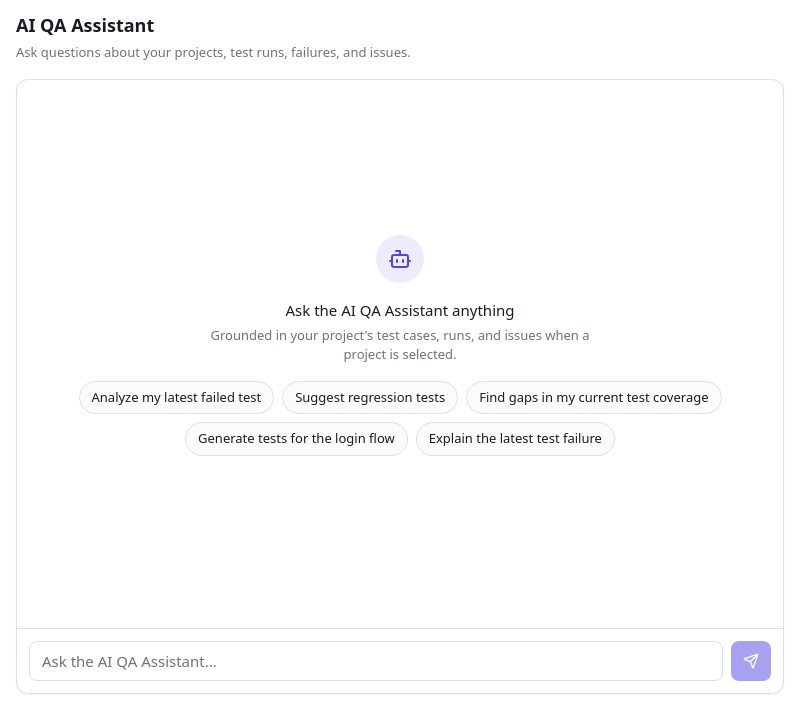
Scenario: AssistantPage › sends a typed message via the composer and renders both bubbles
Type "What should I test next?" into the field named "Message" at (376, 661), box [29,640,723,681]
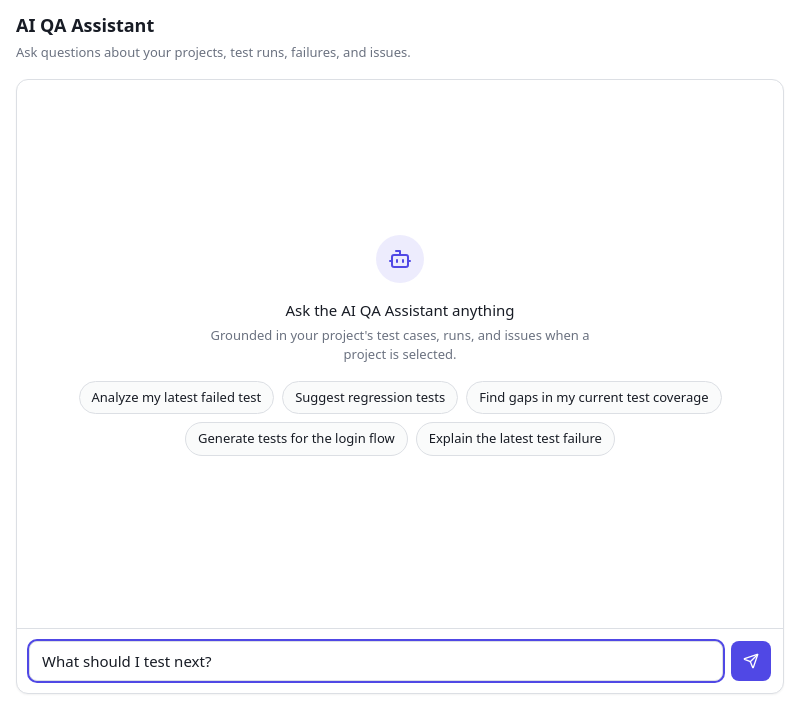
Click the button named "Send message" at (751, 661), box [731,641,771,681]
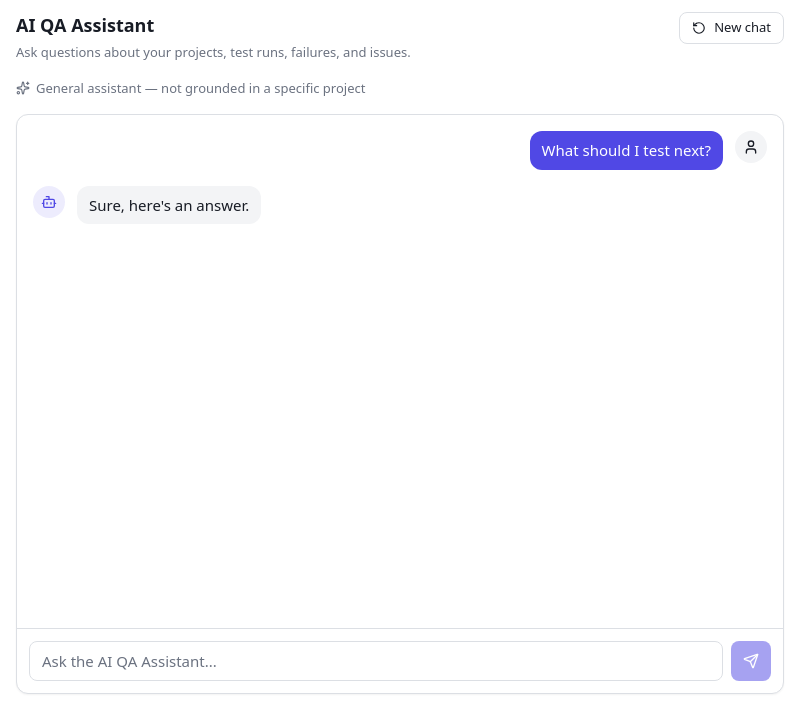
Expected: the text "What should I test next?" is shown, [542,139,711,162]
Expected: the text "Sure, here's an answer." is shown, [89,194,249,216]
Expected: the field named "Message" is empty, [29,640,723,681]
